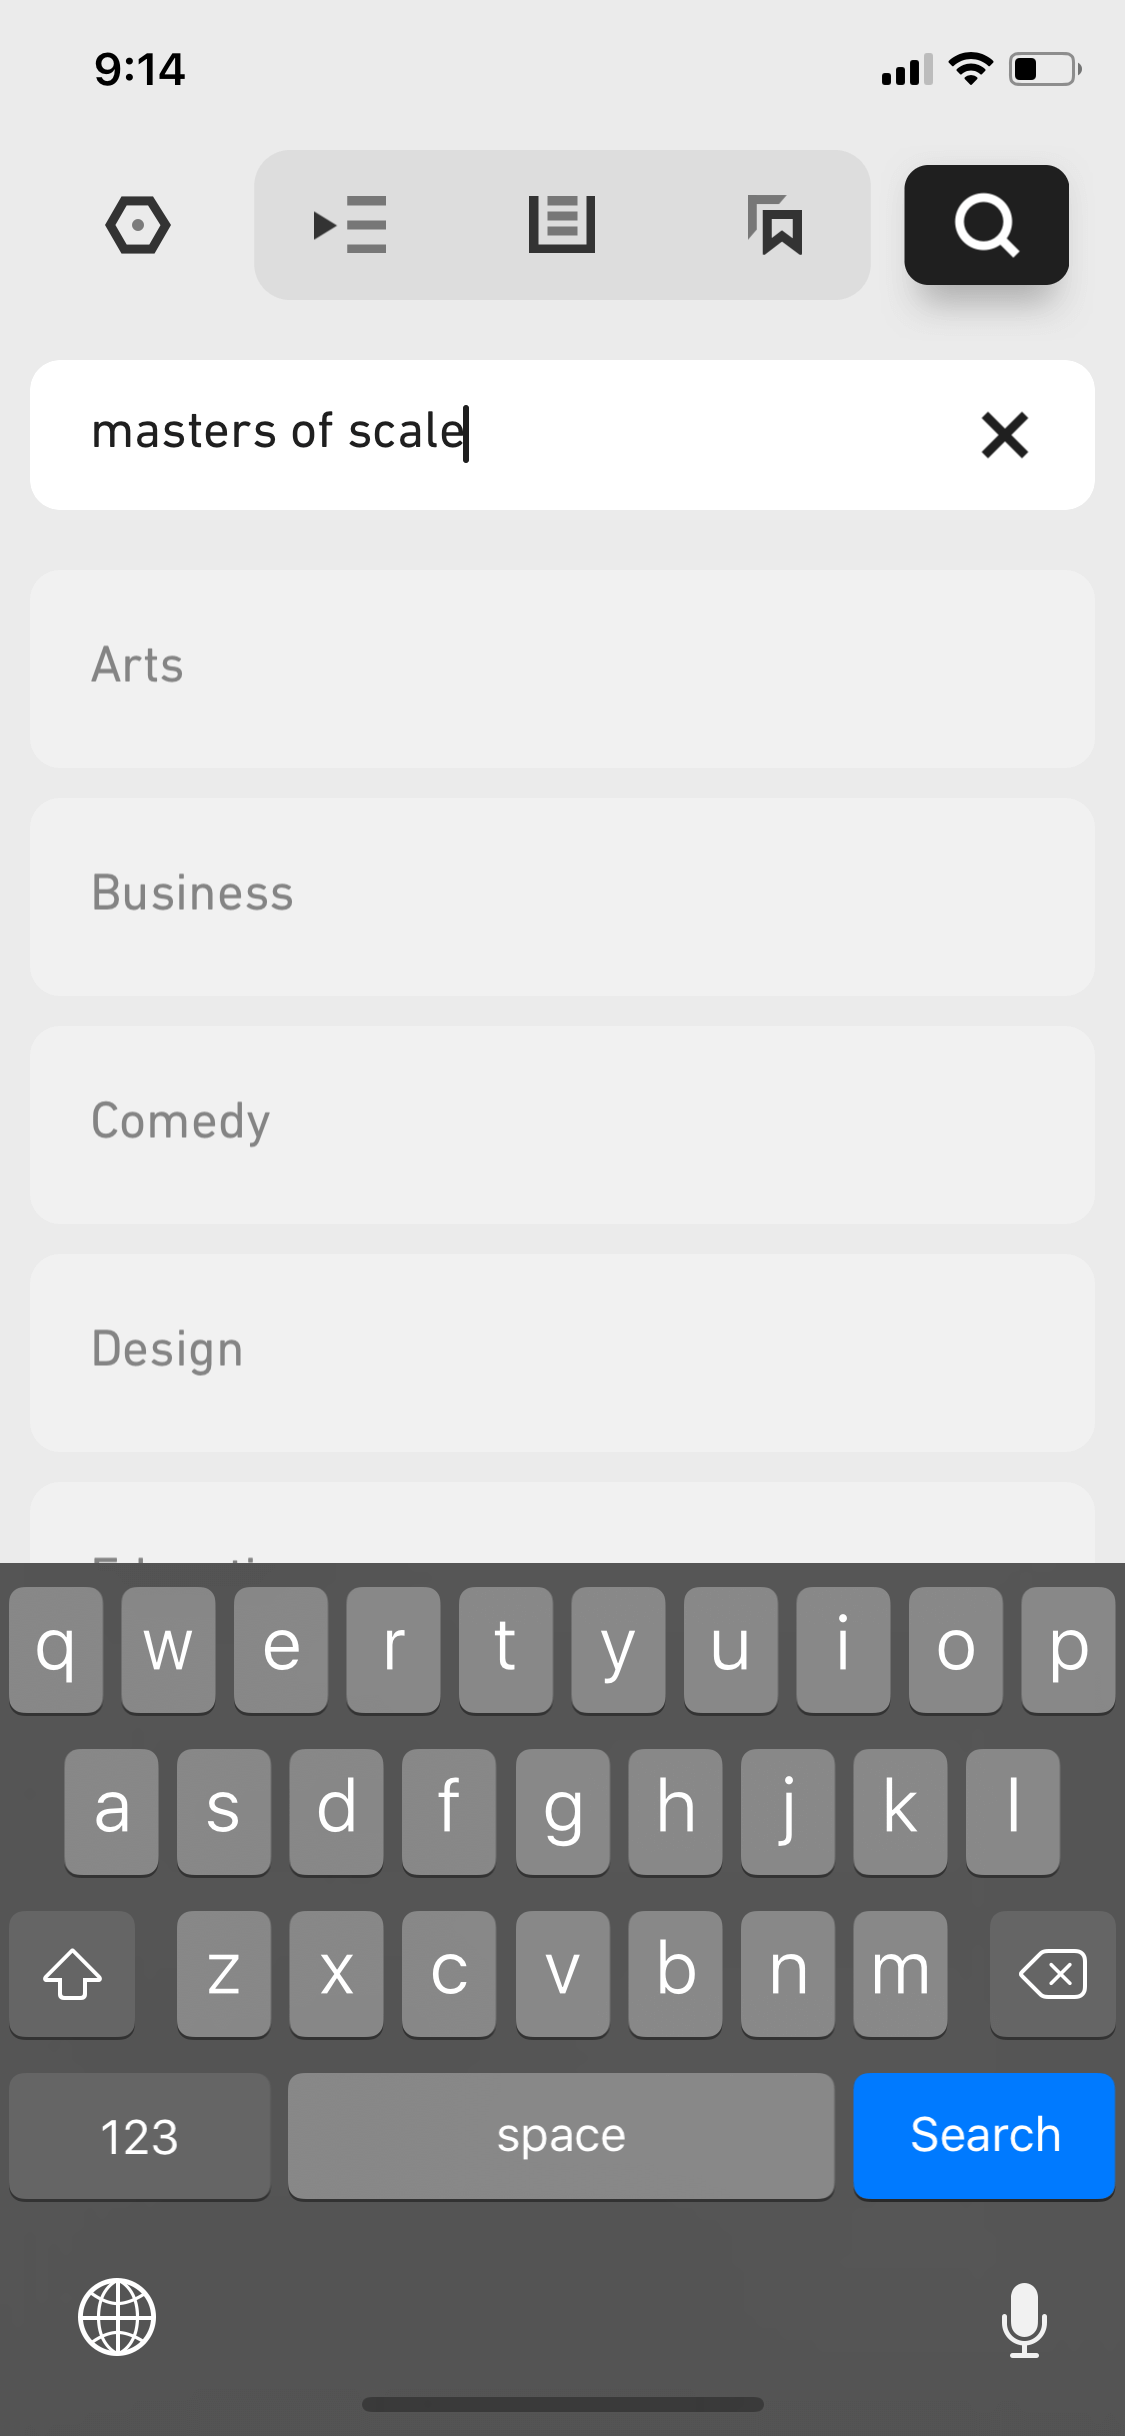Buttons: (883, 152, 1078, 301), (64, 144, 214, 308), (272, 155, 424, 291), (704, 152, 841, 291), (494, 157, 628, 291)
Text Fields: (2, 348, 1125, 528)
